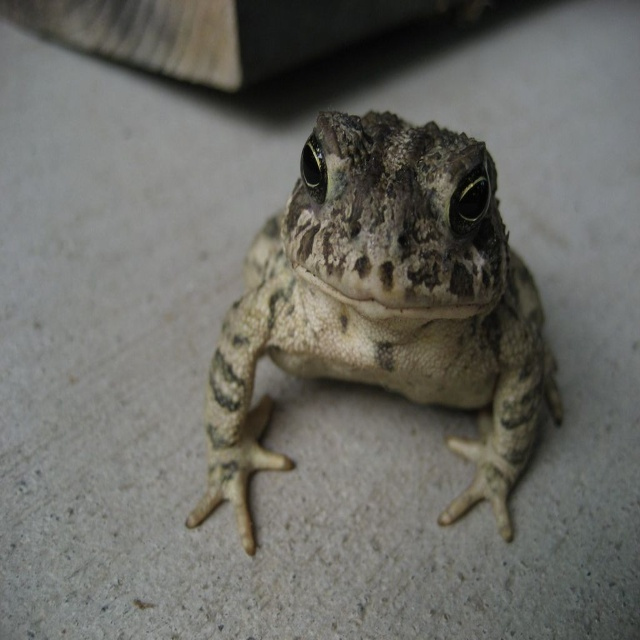Frog: (185, 110, 566, 557)
